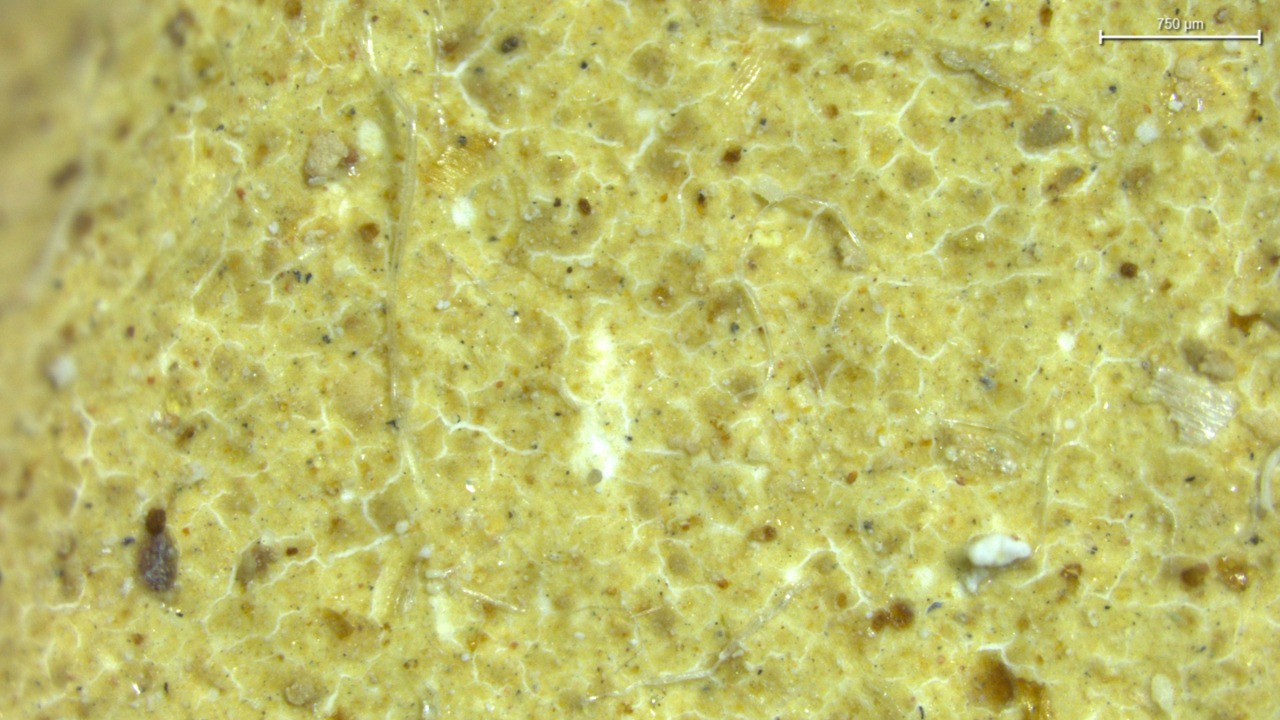microplastic_fragment: (1135, 367, 1237, 443), (304, 131, 348, 185), (967, 533, 1031, 566)
